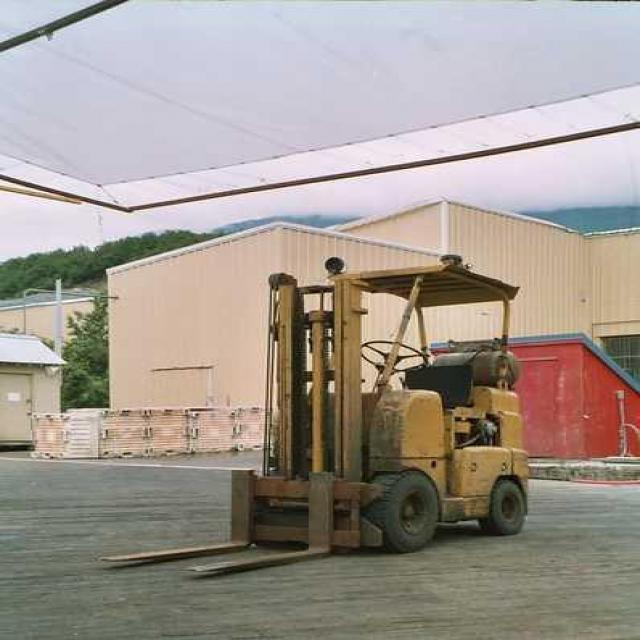Chariot elevateur: (95, 248, 540, 582)
